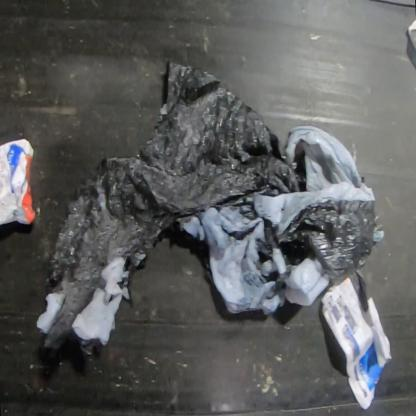soft_plastic: (37, 60, 384, 349)
